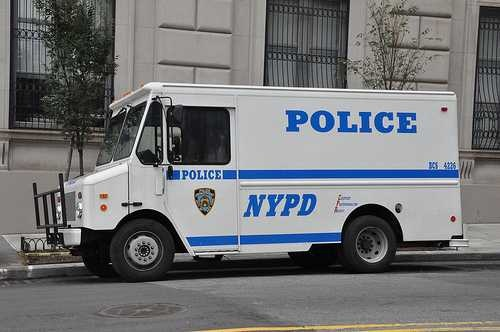Police Van: (92, 102, 472, 276)
